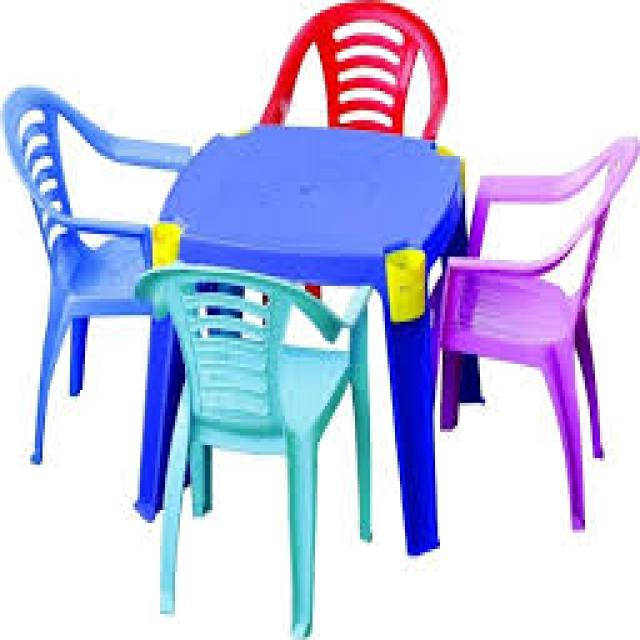chair: (138, 263, 374, 636), (451, 132, 638, 537), (1, 77, 179, 463)
